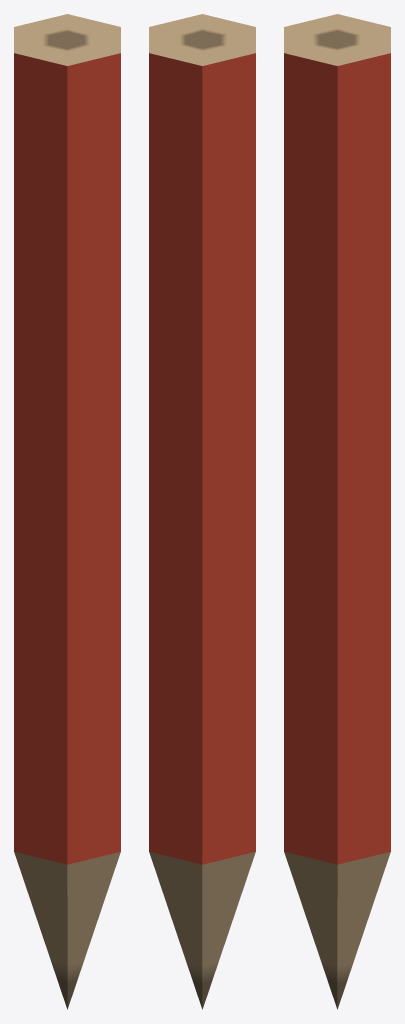
File: SM_Prop_Pencil_02.glb
3 renders of one model, left to right at view 1: azimuth 30°, elevation 25°; view 2: azimuth 210°, elevation 25°; view 3: azimuth 330°, elevation 25°, orthographic.
Parts seen in each view (by area): view 1: SM_Prop_Pencil_02; view 2: SM_Prop_Pencil_02; view 3: SM_Prop_Pencil_02.
Part boxes in pixels (x1,y1,x2,y2): SM_Prop_Pencil_02: (14, 14, 120, 1009); SM_Prop_Pencil_02: (149, 14, 255, 1009); SM_Prop_Pencil_02: (284, 14, 390, 1009).
Bounding box in the file's own units: 0.0221 × 0.1914 × 0.0191.
Materials: 1 (1 with a texture image).
